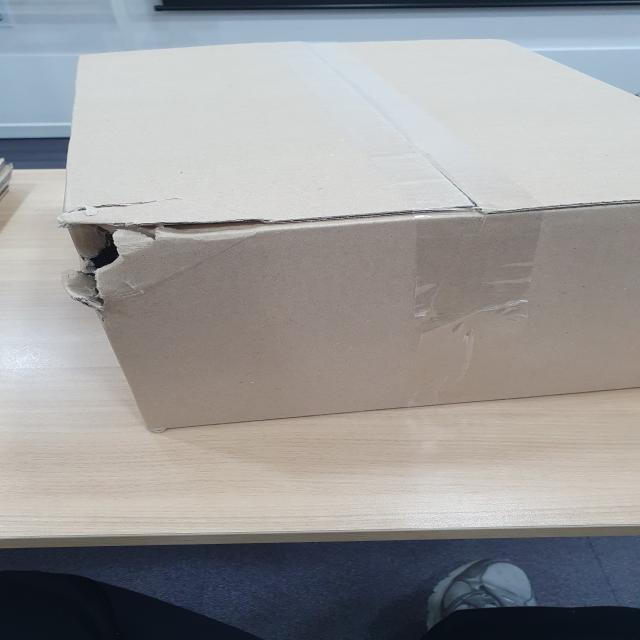hole: (64, 202, 273, 306)
